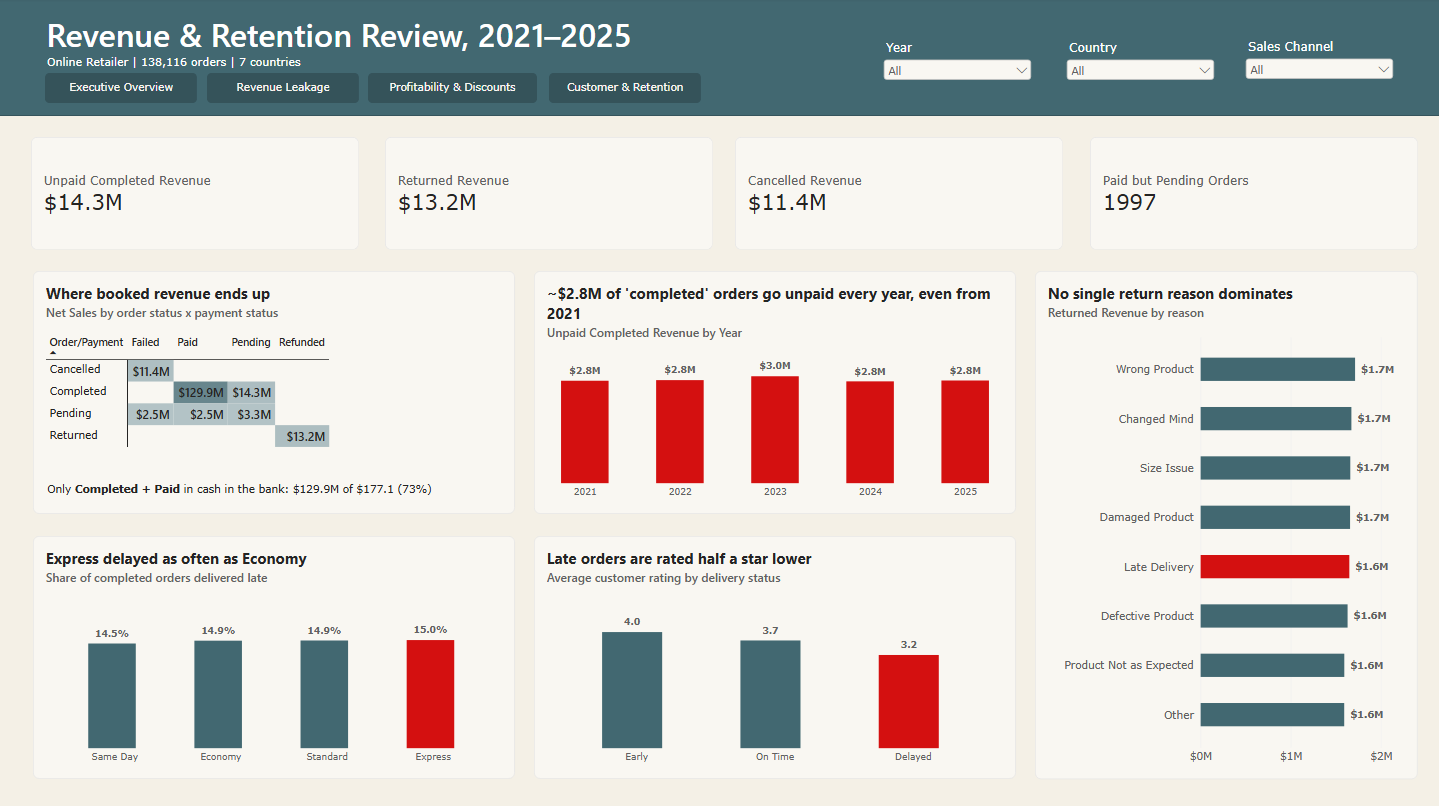

Layout of this report page (visuals, bound fields, positions):
{"tool":"powerbi","page":{"name":"Revenue Leakage","canvas":[1920,1080],"ordinal":1},"visuals":[{"type":"cardVisual","fields":{"Data":["_Measures.Returned Revenue"]},"box":[517.4,184.9,436.3,150.3],"z":0},{"type":"cardVisual","title":"Completed but unpaid","fields":{"Data":["_Measures.Unpaid Completed Revenue"]},"box":[46.6,184.9,436.3,150.3],"z":1000},{"type":"cardVisual","fields":{"Data":["_Measures.Paid but Pending Orders"]},"box":[1455.1,184.9,436.3,150.3],"z":2000},{"type":"cardVisual","fields":{"Data":["_Measures.Cancelled Revenue"]},"box":[982.9,184.9,436.3,150.3],"z":3000},{"type":"pivotTable","title":"Where booked revenue ends up","fields":{"Columns":["fact_orders.payment_status"],"Rows":["fact_orders.order_status"],"Values":["_Measures.Booked Revenue"]},"box":[49.2,363.1,641.1,323.2],"z":4000},{"type":"columnChart","title":"~$2.8M of ''completed'' orders go unpaid every year, even from 2021","fields":{"Category":["dim_date.Date.Variation.Date Hierarchy.Year"],"Y":["_Measures.Unpaid Completed Revenue"]},"box":[715.6,363.1,641.1,323.2],"z":5000},{"type":"barChart","title":"No single return reason dominates","fields":{"Category":["fact_orders.return_reason"],"Y":["_Measures.Returned Revenue"]},"box":[1381.9,363.1,509.4,675.7],"z":6000},{"type":"columnChart","title":"Express delayed as often as Economy","fields":{"Category":["fact_orders.shipping_method"],"Y":["_Measures.Delayed %"]},"box":[49.2,715.6,641.1,323.2],"z":7000},{"type":"columnChart","title":"Late orders are rated half a star lower","fields":{"Category":["fact_orders.delivery_status"],"Y":["_Measures.Avg Rating"]},"box":[715.6,715.6,641.1,323.2],"z":8000},{"type":"textbox","box":[67.8,643.7,599.9,25.3],"z":9000},{"type":"shape","box":[0,0,1920.6,156.9],"z":10000},{"type":"textbox","box":[22.6,18.6,867.2,81.1],"z":11000},{"type":"slicer","fields":{"Values":["dim_date.Year"]},"box":[1175.8,55.9,206.2,61.2],"z":12000},{"type":"slicer","fields":{"Values":["dim_customers.customer_country"]},"box":[1419.2,55.9,206.2,61.2],"z":13000},{"type":"slicer","fields":{"Values":["fact_orders.sales_channel"]},"box":[1657.2,54.5,206.2,62.5],"z":14000},{"type":"actionButton","title":"Executive Overview","box":[65.2,99.8,202.2,39.9],"z":15000},{"type":"actionButton","title":"Profitability & Discounts","box":[494.8,99.8,224.8,39.9],"z":16000},{"type":"actionButton","title":"Revenue Leakage","box":[280.6,99.8,202.2,39.9],"z":17000},{"type":"actionButton","title":"Customer & Retention","box":[735.5,99.8,202.2,39.9],"z":18000}]}

Visuals, with their boxes in screenshot pixels (x1, y1, x2, y2), scaled from the page's 1920x1080 canvas onto the 1439x806 screenshot:
cardVisual - _Measures.Returned Revenue: <bbox>388, 138, 715, 250</bbox>
"Completed but unpaid" cardVisual: <bbox>35, 138, 362, 250</bbox>
cardVisual - _Measures.Paid but Pending Orders: <bbox>1091, 138, 1418, 250</bbox>
cardVisual - _Measures.Cancelled Revenue: <bbox>737, 138, 1064, 250</bbox>
"Where booked revenue ends up" pivotTable: <bbox>37, 271, 517, 512</bbox>
"~$2.8M of ''completed'' orders go unpaid every year, even from 2021" columnChart: <bbox>536, 271, 1017, 512</bbox>
"No single return reason dominates" barChart: <bbox>1036, 271, 1417, 775</bbox>
"Express delayed as often as Economy" columnChart: <bbox>37, 534, 517, 775</bbox>
"Late orders are rated half a star lower" columnChart: <bbox>536, 534, 1017, 775</bbox>
textbox: <bbox>51, 480, 500, 499</bbox>
shape: <bbox>0, 0, 1438, 117</bbox>
textbox: <bbox>17, 14, 667, 74</bbox>
slicer - dim_date.Year: <bbox>881, 42, 1036, 87</bbox>
slicer - dim_customers.customer_country: <bbox>1064, 42, 1218, 87</bbox>
slicer - fact_orders.sales_channel: <bbox>1242, 41, 1397, 87</bbox>
"Executive Overview" actionButton: <bbox>49, 74, 200, 104</bbox>
"Profitability & Discounts" actionButton: <bbox>371, 74, 539, 104</bbox>
"Revenue Leakage" actionButton: <bbox>210, 74, 362, 104</bbox>
"Customer & Retention" actionButton: <bbox>551, 74, 703, 104</bbox>
